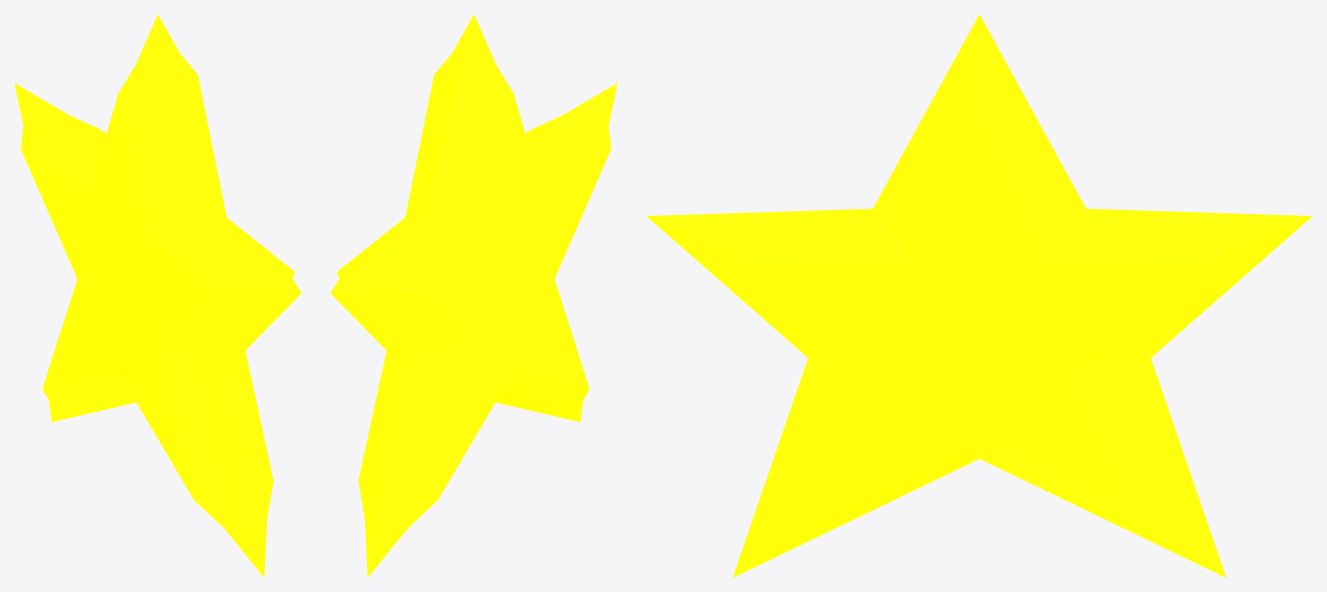
File: Star.fbx
The picture shows the model from 3 angles, left to right: view 1: azimuth 30°, elevation 25°; view 2: azimuth 150°, elevation 25°; view 3: azimuth 270°, elevation 25°; orthographic projection. The views are drawn at different scales.
Parts seen in each view (by area): view 1: Plane.001; view 2: Plane.001; view 3: Plane.001.
Part boxes in pixels (<box>): Plane.001: <box>14,14,301,577</box>; Plane.001: <box>330,14,617,577</box>; Plane.001: <box>646,14,1312,577</box>.
Bounding box in the file's own units: 45.8 × 267 × 286.
